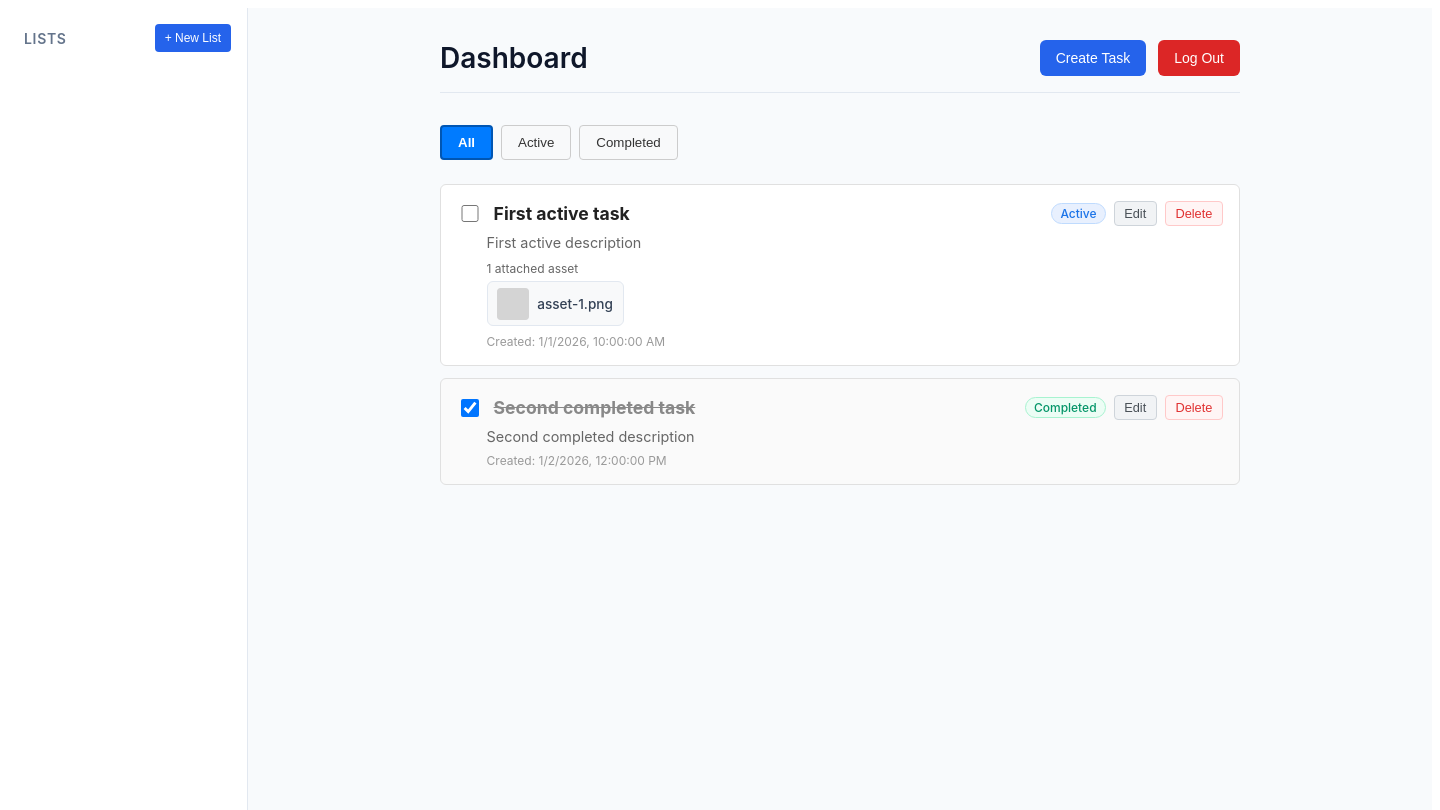
Test: Task Editing and Deletion (T4 / R5 AC-1 to AC-4) › opens EditTaskModal pre-populated, updates title, description, and attached assets via PATCH /todos/{id}, and updates dashboard
This screenshot has width=1440, height=810.
Expected: the heading "First active task" is shown, [494,203,630,224]
Click Edit button for First active task
Click the button "Edit" in the row of "First active task": (1135, 214) [1114,201,1157,226]
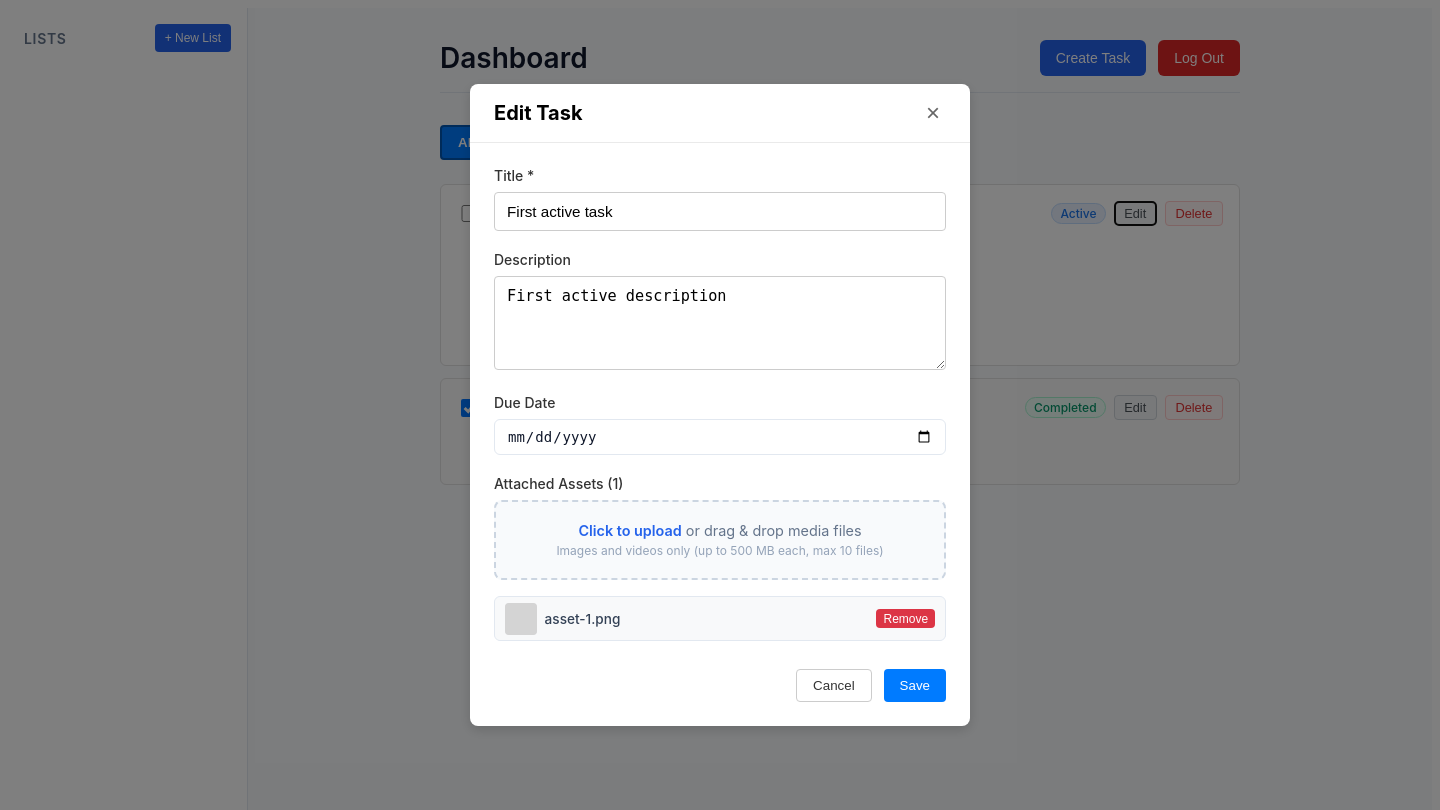
Result: the heading "Edit Task" is shown at [494,101,582,125]
Result: the field labelled "Title *" holds "First active task" at [494,192,946,231]
Result: the text box labelled "Description" holds "First active description" at [494,276,946,370]
Remove attached asset
Click the button "Remove": (906, 618) [876,609,935,628]
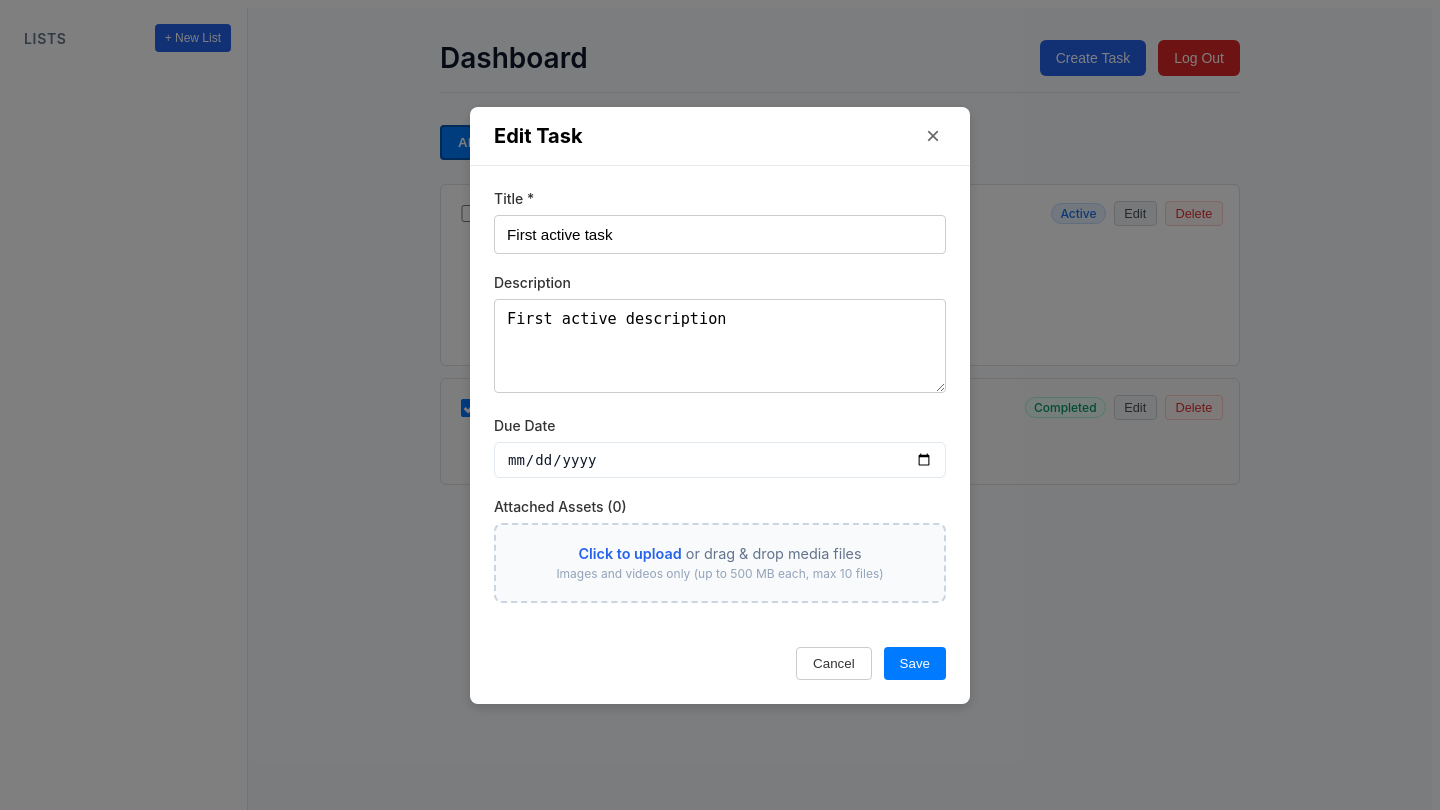
Modify title and description
Clear the field labelled "Title *": (720, 234) [494,214,946,254]
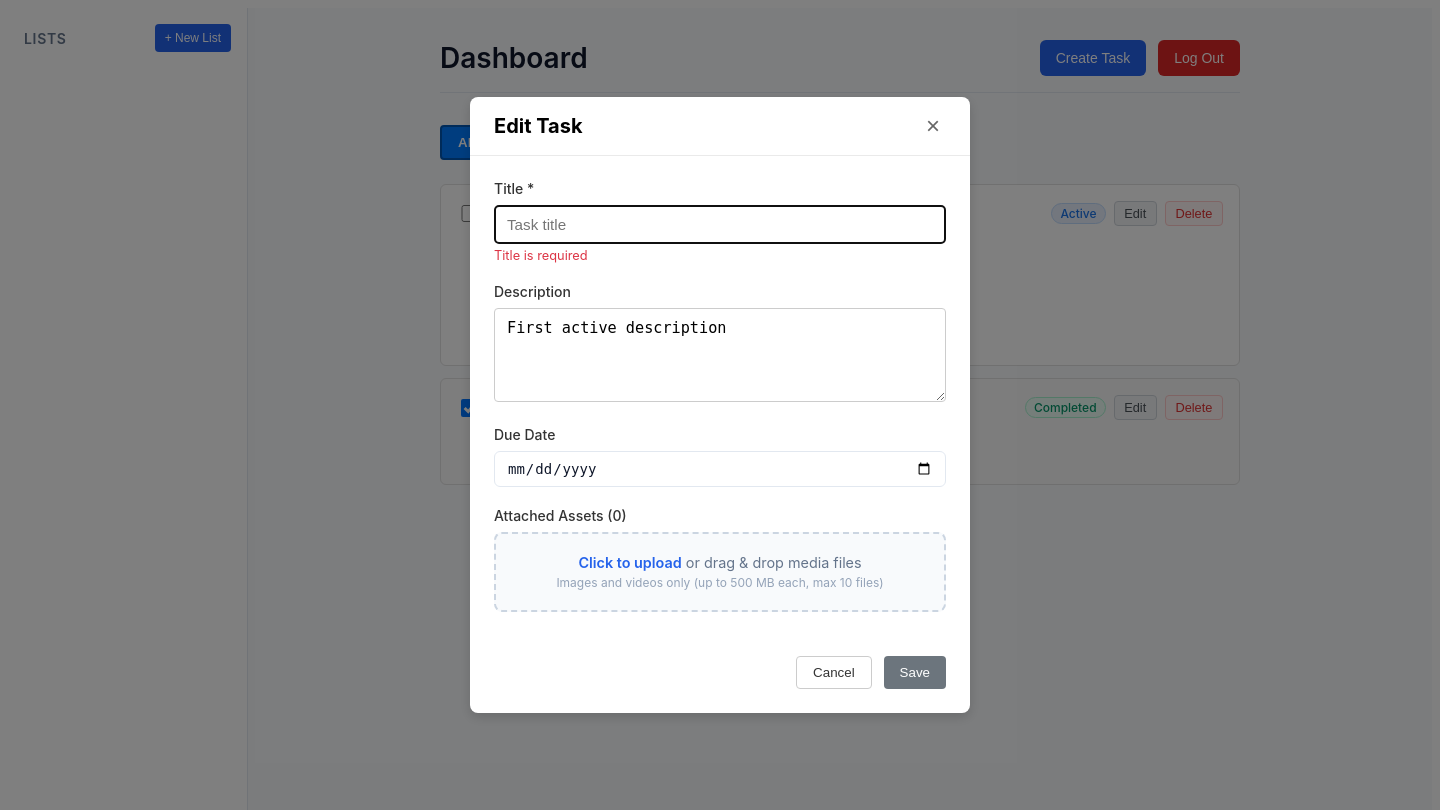
In the field labelled "Title *": (720, 224) [494,205,946,244], type "Updated Active Task Title"
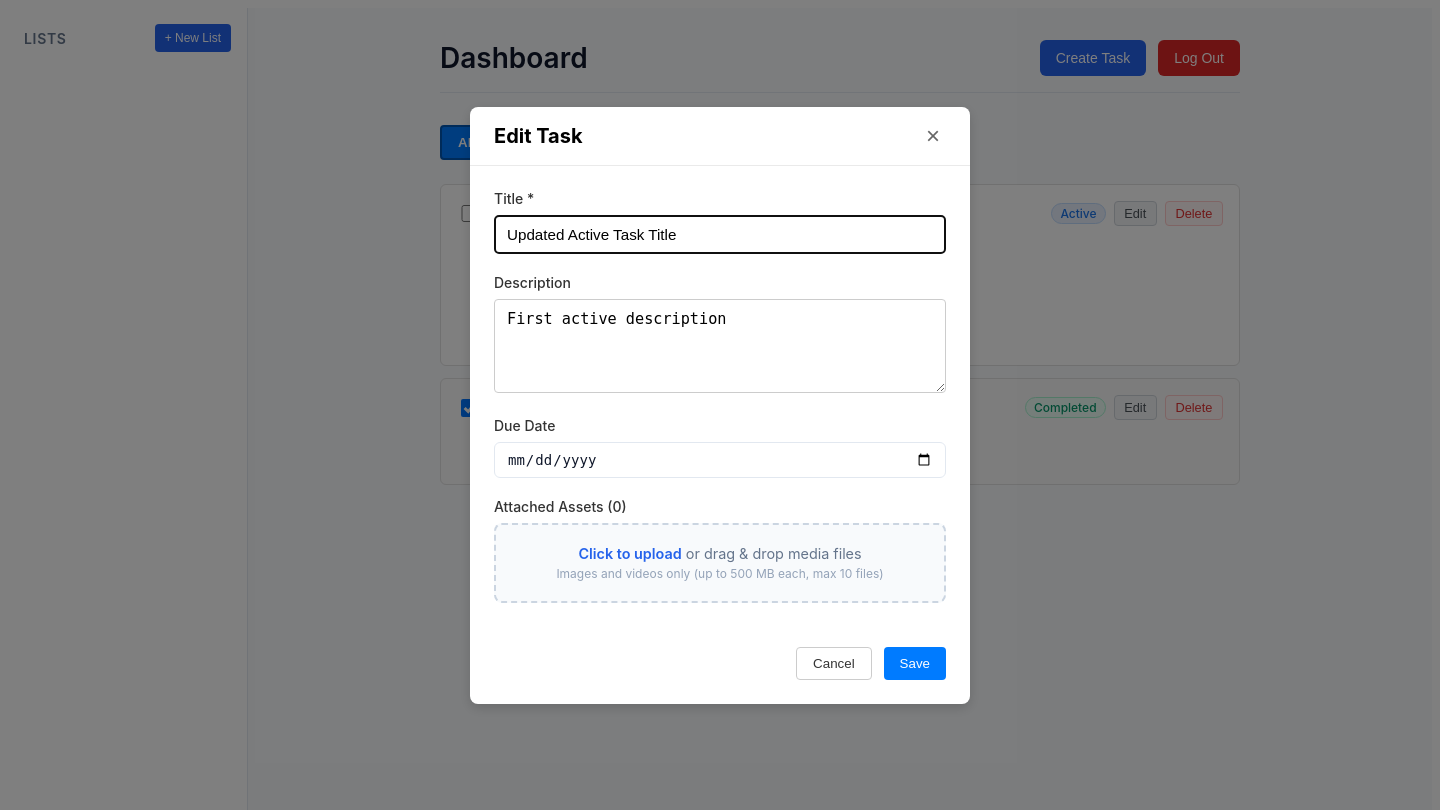
Replace the text in the text box labelled "Description" with "Updated active task description": (720, 346) [494,298,946,392]
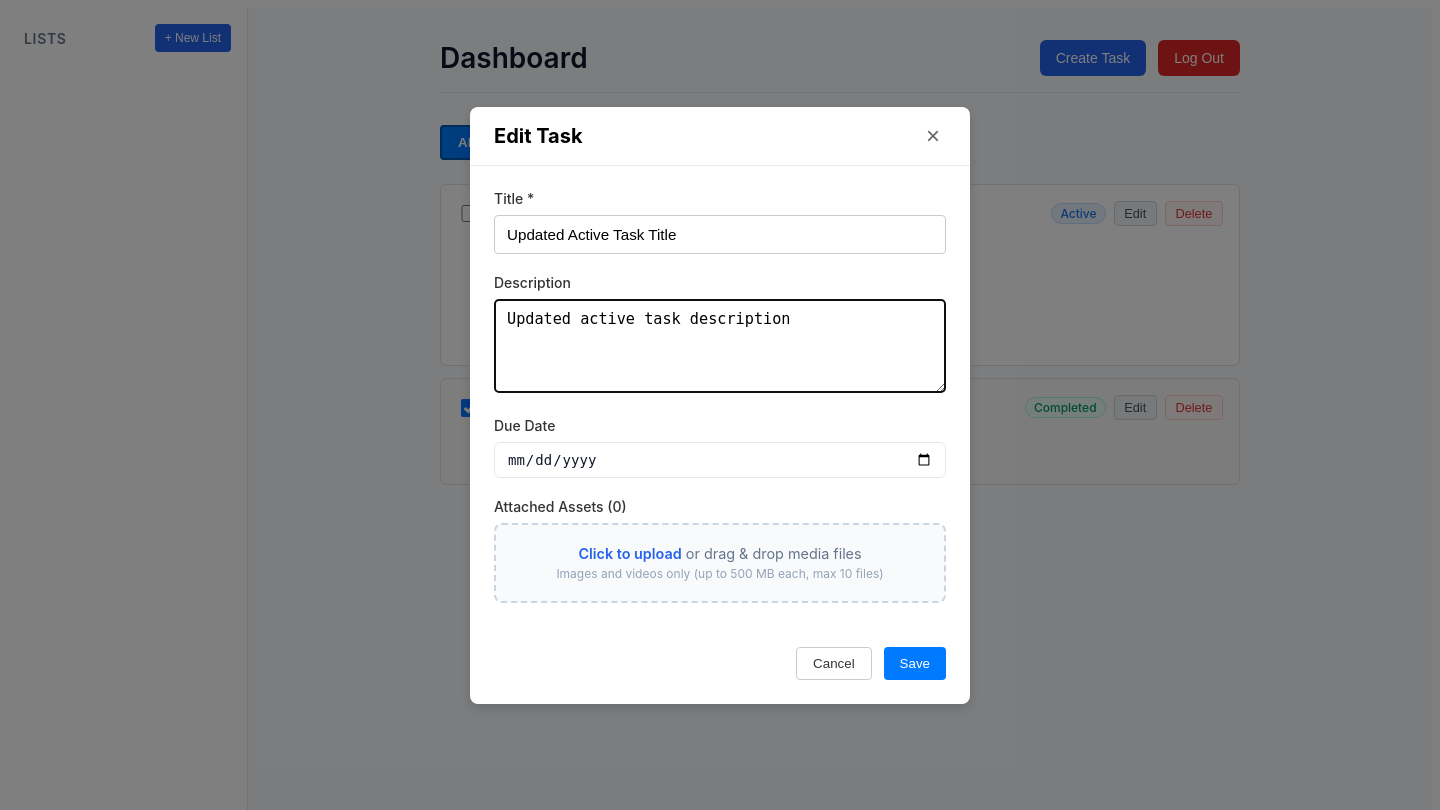
Click Save
Click the button "Save": (915, 663) [884,646,946,680]
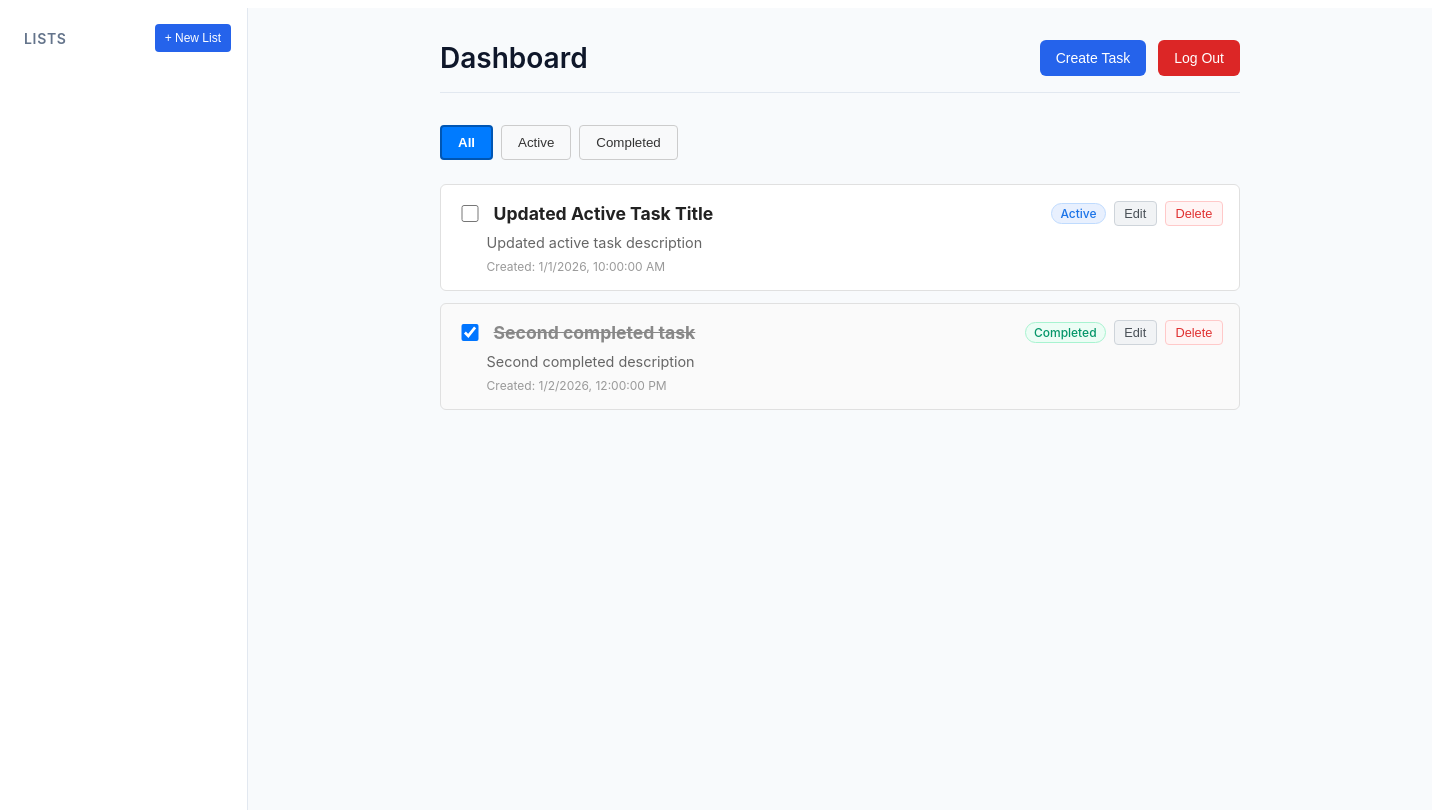
Result: the heading "First active task" reads "Updated Active Task Title" at [494,203,713,224]
Result: the text "Updated active task description" is shown at [487,234,702,251]
Result: the heading "Edit Task" is gone
